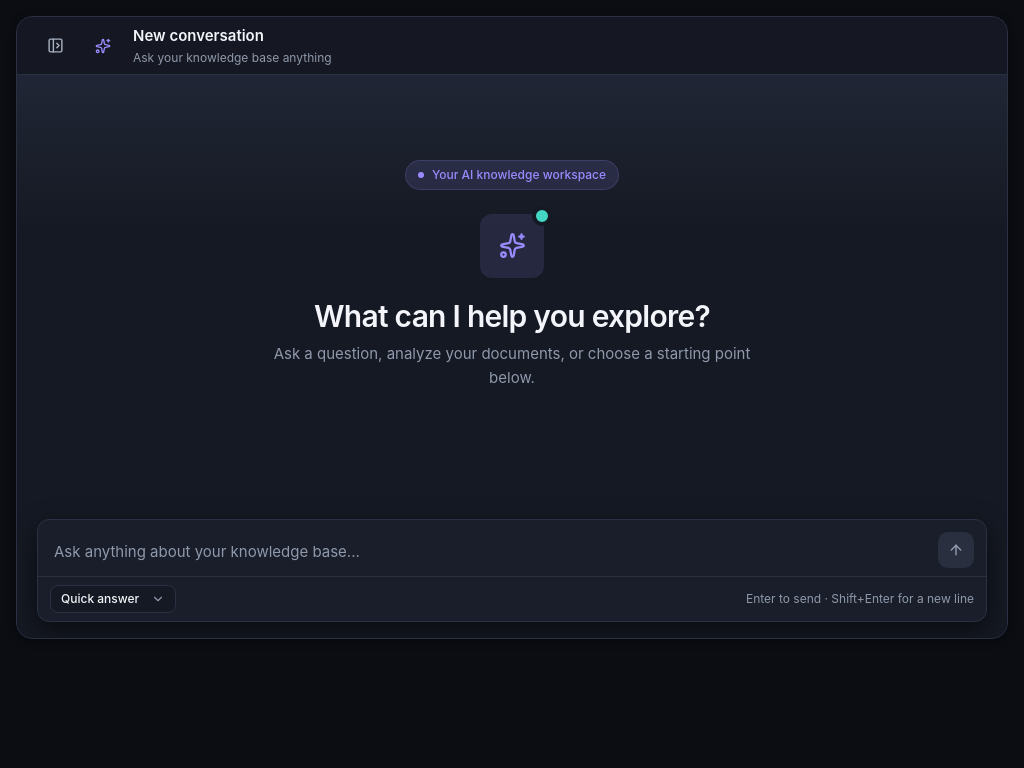
Scenario: mobile chat history drawer › keeps the English shell on its original edge
Click the button named "Toggle chat history".
click(55, 46)  # box [37, 28, 73, 64]
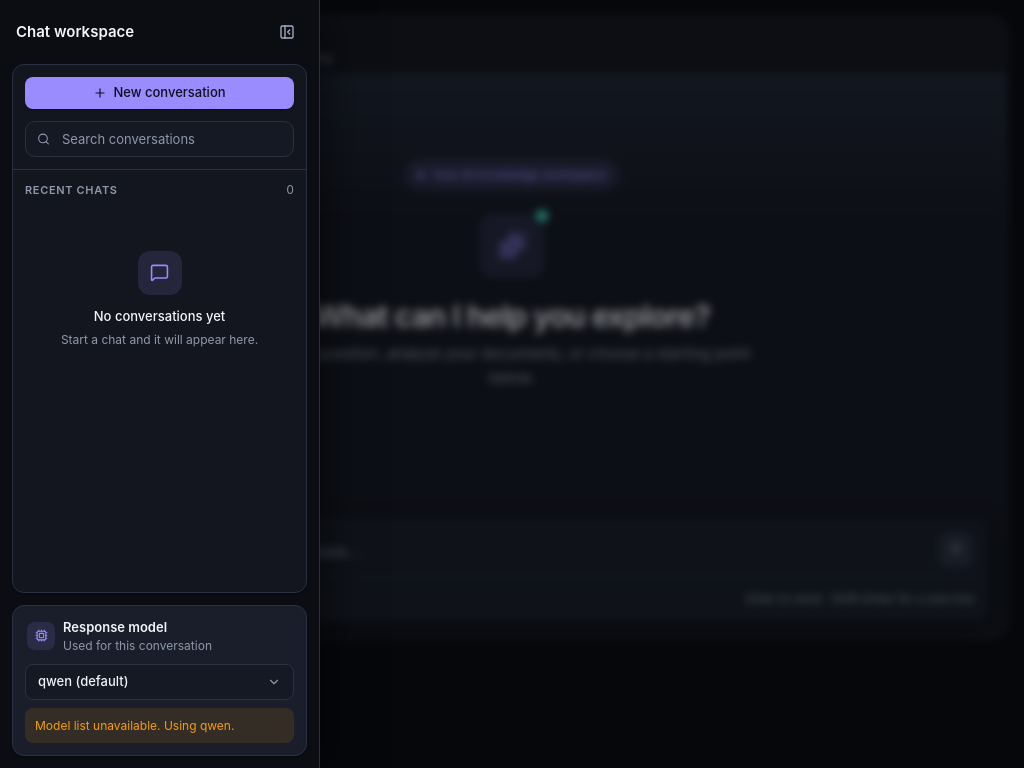
Expected: the text "Chat workspace" is shown, [16, 21, 134, 43]
